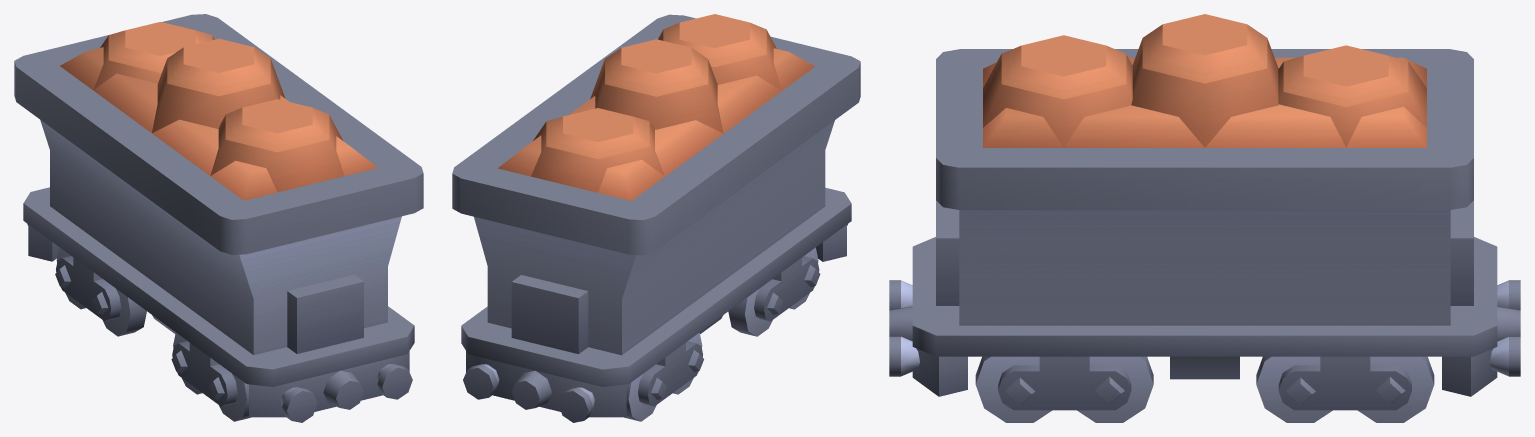
The model's file is train-carriage-dirt.glb.
The picture shows the model from 3 angles, left to right: view 1: azimuth 30°, elevation 25°; view 2: azimuth 150°, elevation 25°; view 3: azimuth 270°, elevation 25°; orthographic projection. The views are drawn at different scales.
Parts seen in each view (by area): view 1: train-carriage-dirt; view 2: train-carriage-dirt; view 3: train-carriage-dirt.
Boxes of the visible parts, x1,y1,x2,y2 form: train-carriage-dirt: (14, 14, 423, 422); train-carriage-dirt: (452, 14, 860, 422); train-carriage-dirt: (889, 14, 1520, 422).
Size of the model in its own units: 1.2 by 1.65 by 2.7.
1 material, 1 textured.
